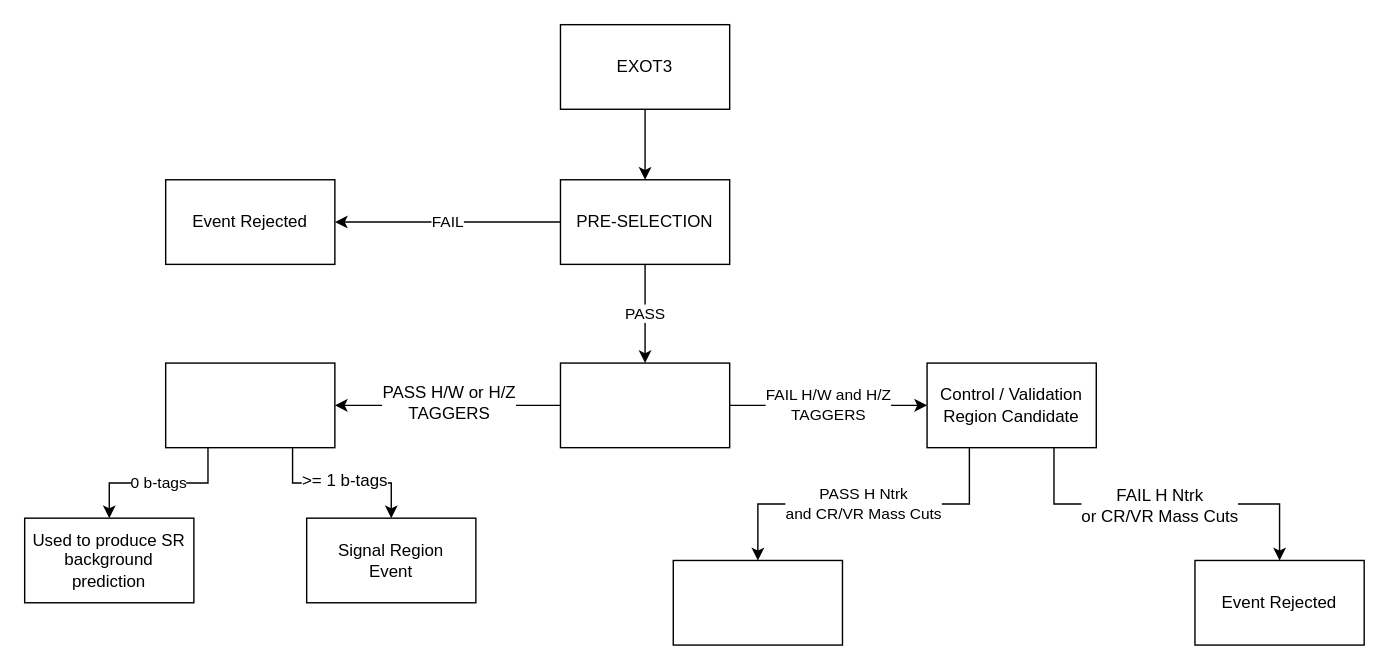
Image size: 1389x670. Some labels were removed from this diagram. The shapes that lost their labels are listed below. From the top down, each one's box as (x1, y1, x2, y2) in pixels, then its label:
(164, 362, 335, 448): Signal Region Candidate
(559, 362, 730, 448): Boson Tagging
(672, 559, 842, 645): Control / Validation Region Event
